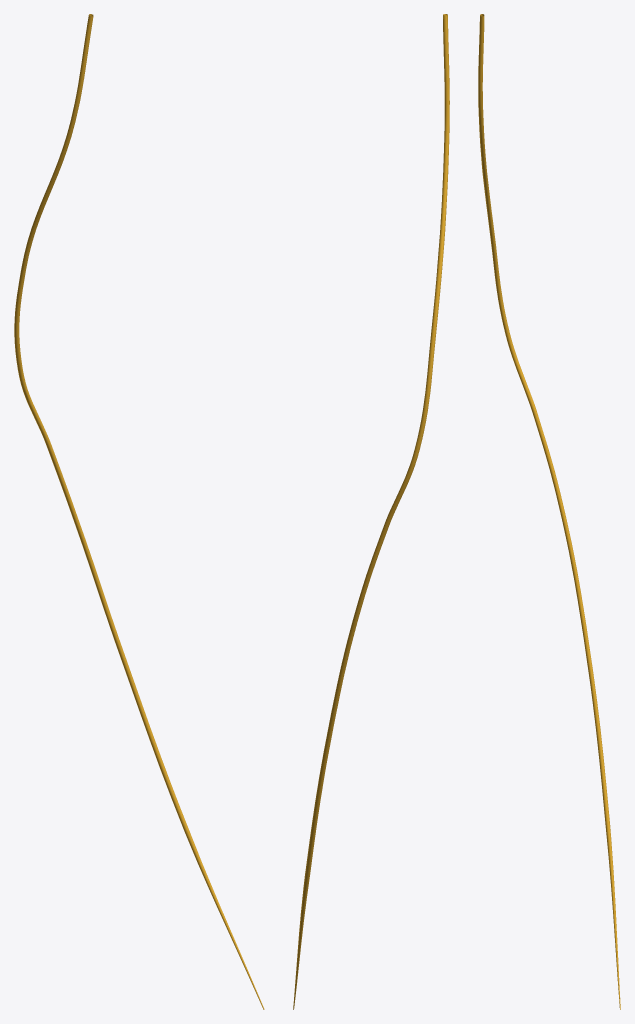
The model's file is nervoso-posterior-branch-of-medial-antebrachial-cutaneous-nerve-l.glb.
3 views of the same model, side by side, from view 1: azimuth 30°, elevation 25°; view 2: azimuth 150°, elevation 25°; view 3: azimuth 330°, elevation 25° (orthographic). The views are drawn at different scales.
Parts seen in each view (by area): view 1: Posterior branch of medial antebrachial cutaneous nerve.l; view 2: Posterior branch of medial antebrachial cutaneous nerve.l; view 3: Posterior branch of medial antebrachial cutaneous nerve.l.
Boxes of the visible parts, x1,y1,x2,y2 form: Posterior branch of medial antebrachial cutaneous nerve.l: (14,14,264,1009); Posterior branch of medial antebrachial cutaneous nerve.l: (293,14,449,1009); Posterior branch of medial antebrachial cutaneous nerve.l: (478,14,620,1009).
Bounding box in the file's own units: 0.0445 × 0.2268 × 0.0256.
